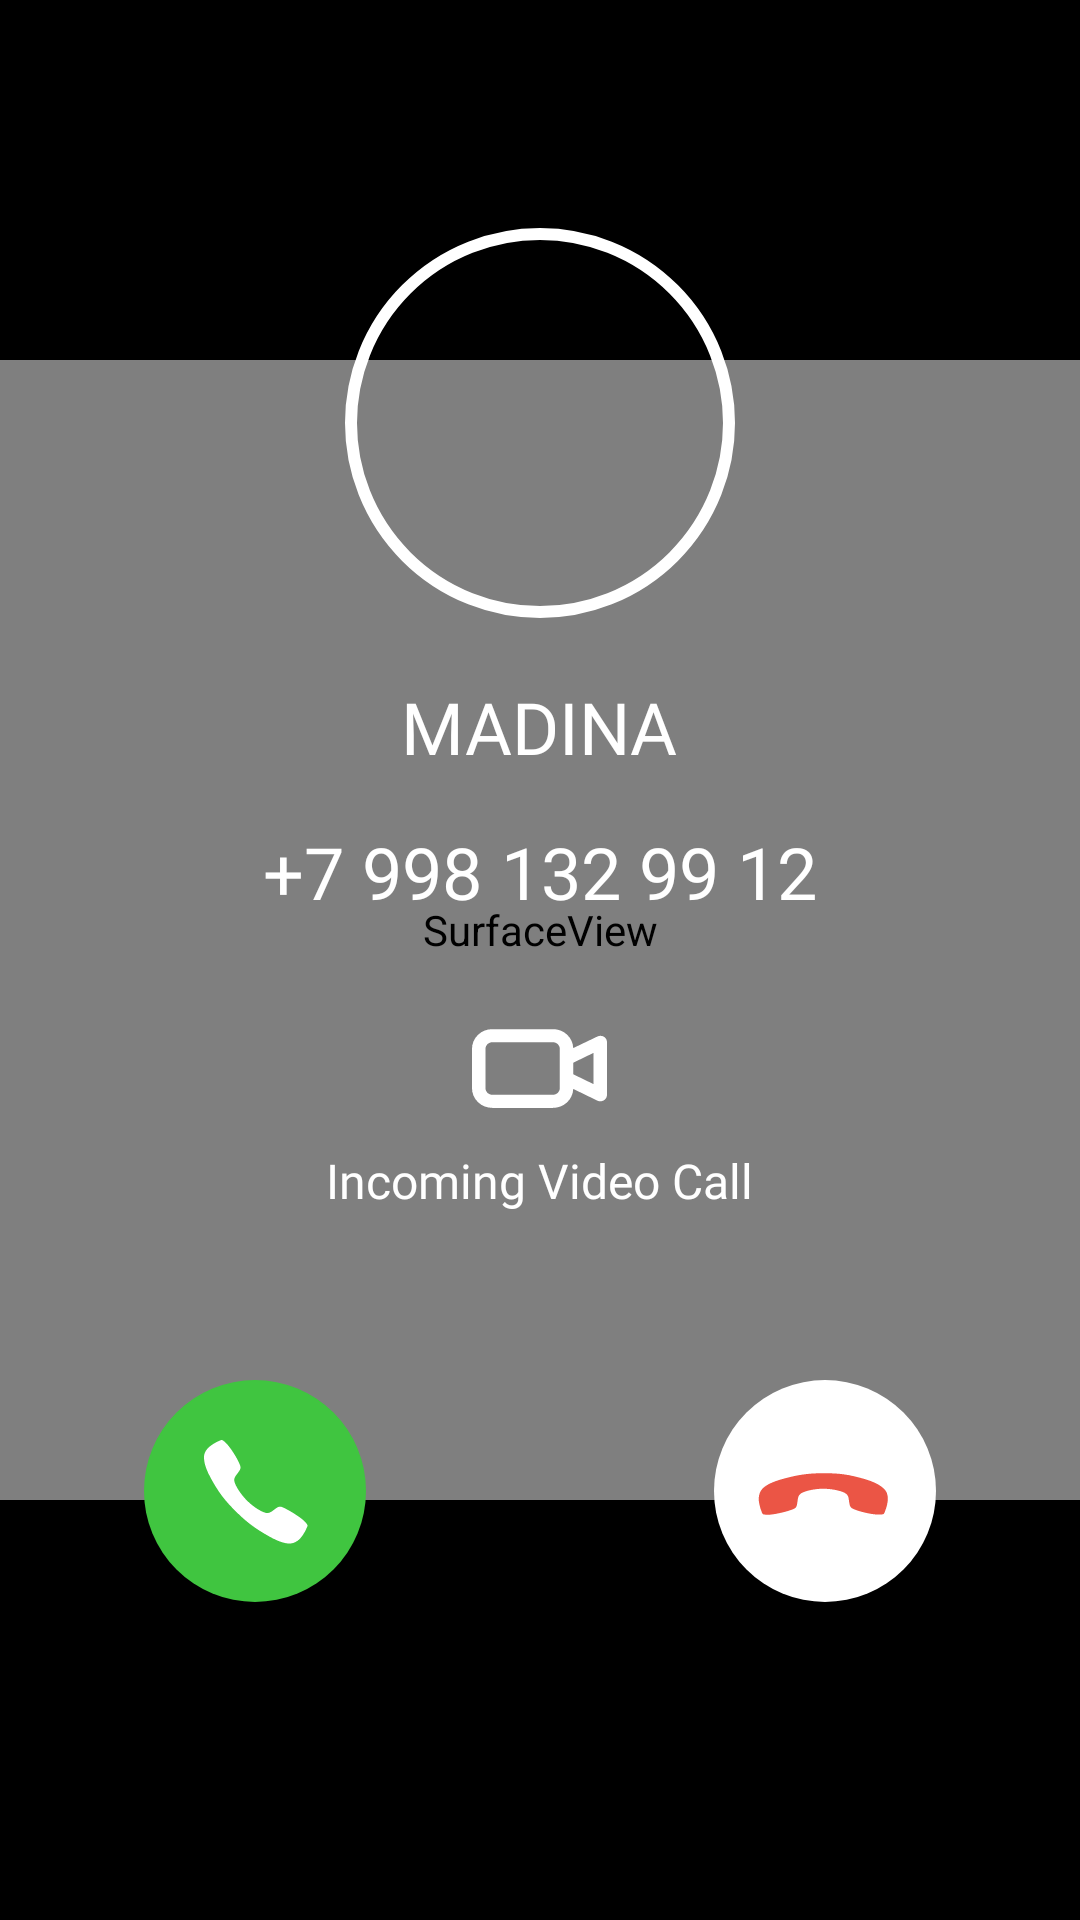

Point at icon controls on the screen. Image size 1080*1920, points as (x,y).
accept: (255,1491)
decline: (825,1491)
video out: (539,1068)
